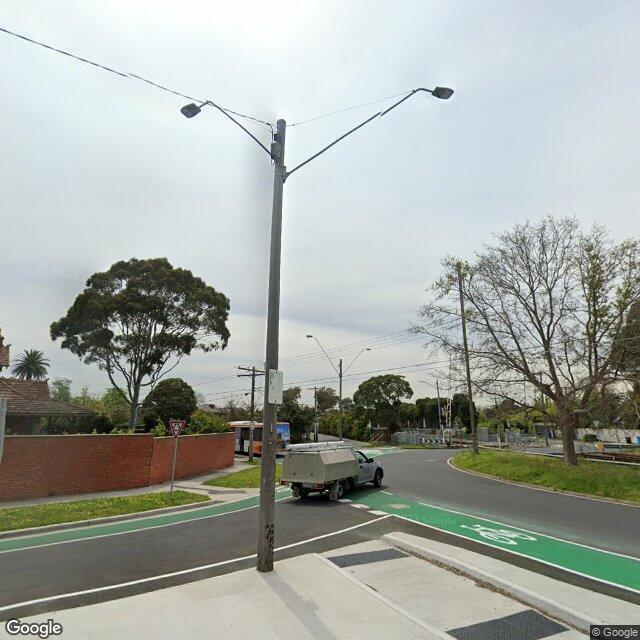crossarm: (238, 367, 265, 373), (237, 373, 266, 377), (307, 386, 325, 391)
steel-pole: (256, 118, 287, 572), (339, 359, 342, 440)
streetlight: (284, 84, 455, 182), (181, 99, 277, 160), (306, 334, 340, 376), (342, 348, 371, 376)
timber-pole: (250, 366, 256, 421), (315, 386, 318, 441)
